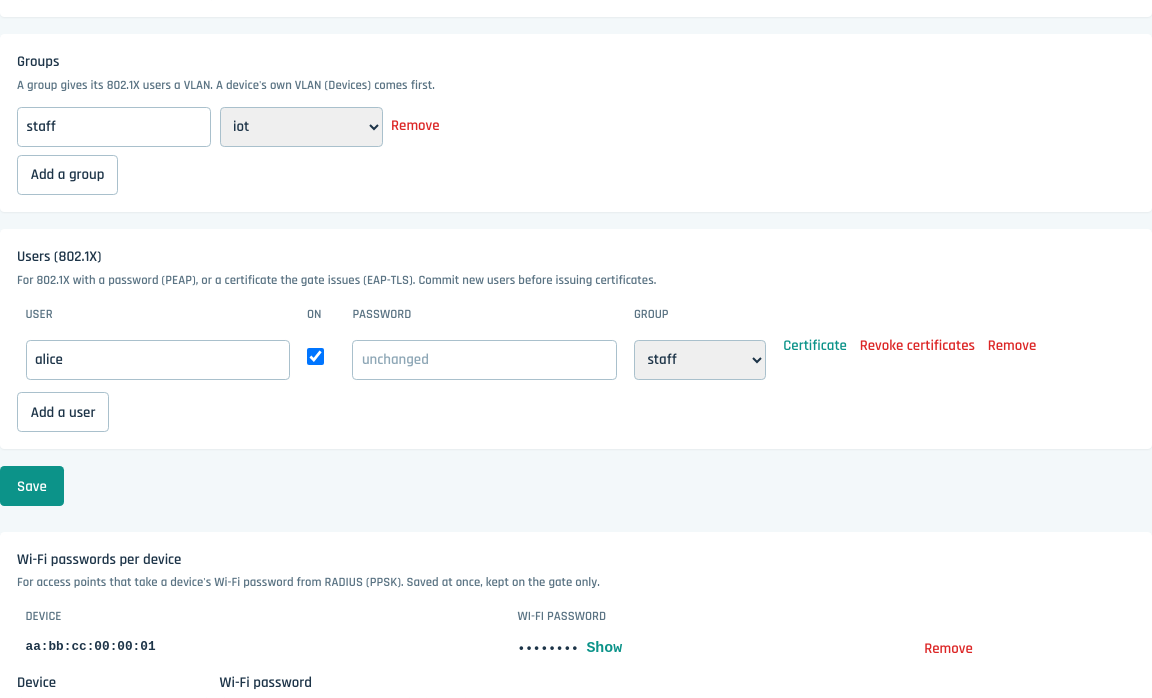
Test: Network → RADIUS › issues a certificate and shows the downloads once
This screenshot has width=1152, height=698.
(page scrolled)
What coordinates should you click on to do the following:
click the button "Certificate"
I would click on:
 (815, 346)
Its box is [783, 335, 847, 357].
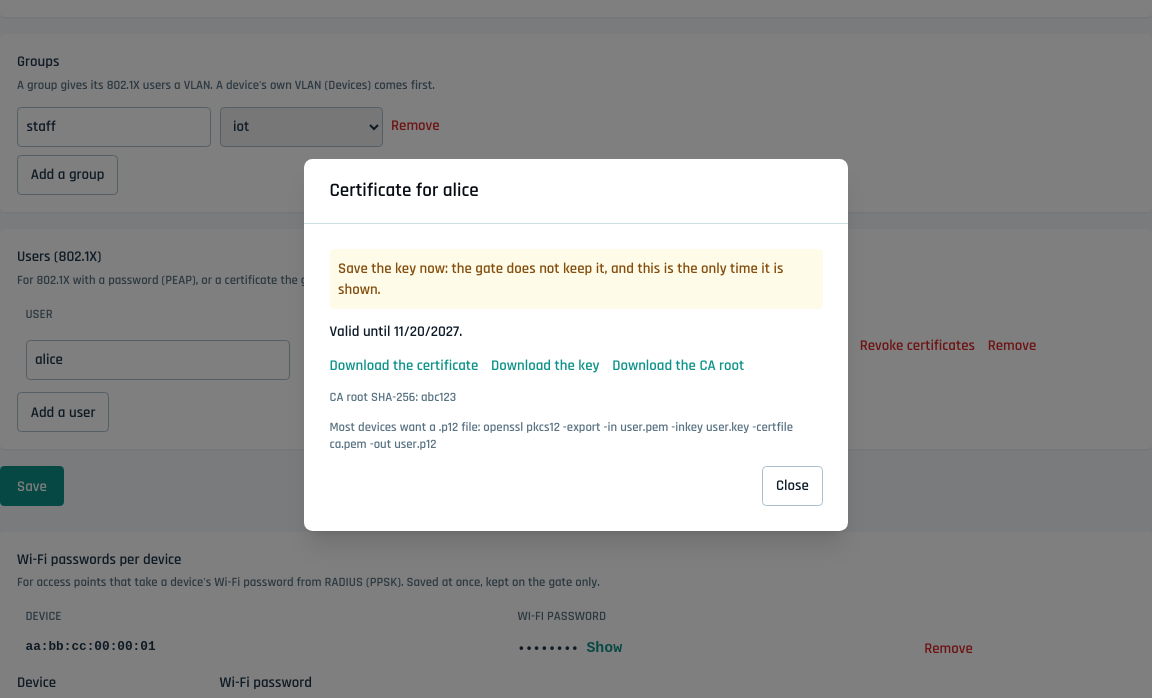
Expected: the text "Save the key now: the gate does not keep it, and this is the only time it is shown." is shown, [338, 258, 784, 299]
Expected: the text "CA root SHA-256: abc123" is shown, [330, 389, 456, 405]
